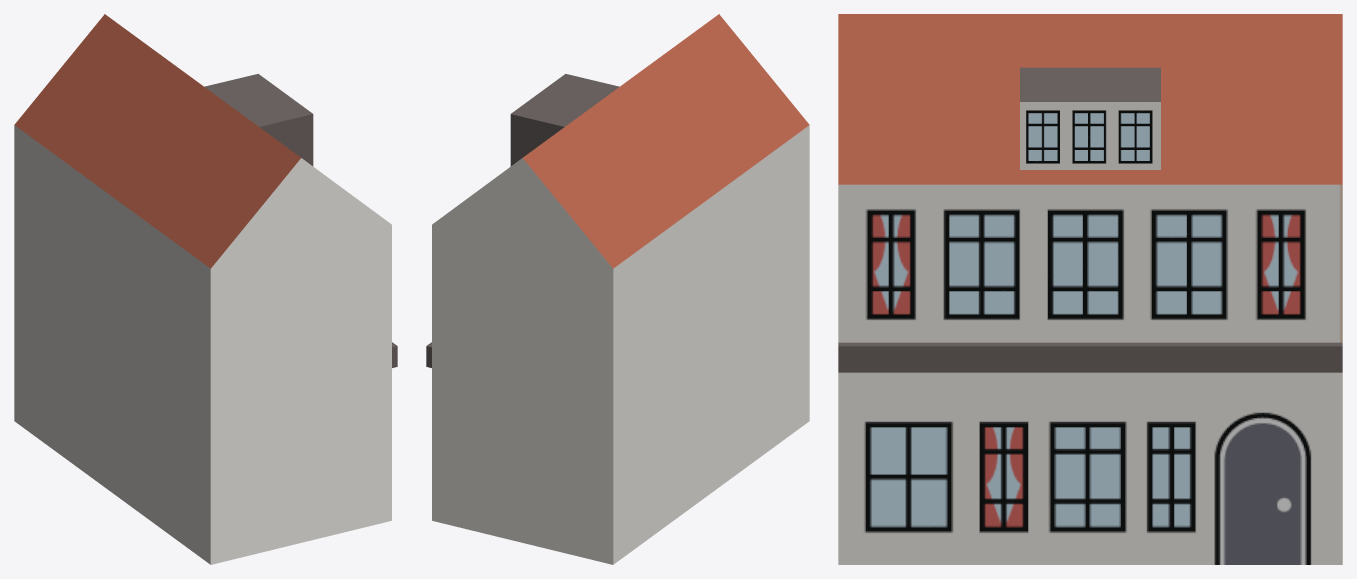
File: StandaardHuisBreed_Var2.fbx
3 views of the same model, side by side, from view 1: azimuth 30°, elevation 25°; view 2: azimuth 150°, elevation 25°; view 3: azimuth 270°, elevation 25° (orthographic). The views are drawn at different scales.
Parts seen in each view (by area): view 1: StandaardHuisBreed_Var2; view 2: StandaardHuisBreed_Var2; view 3: StandaardHuisBreed_Var2.
Boxes of the visible parts, x1,y1,x2,y2 form: StandaardHuisBreed_Var2: (14, 14, 397, 564); StandaardHuisBreed_Var2: (426, 14, 809, 564); StandaardHuisBreed_Var2: (838, 14, 1342, 564).
Bounding box in the file's own units: 66.04 × 130 × 120.
Materials: 1 (1 with a texture image).
